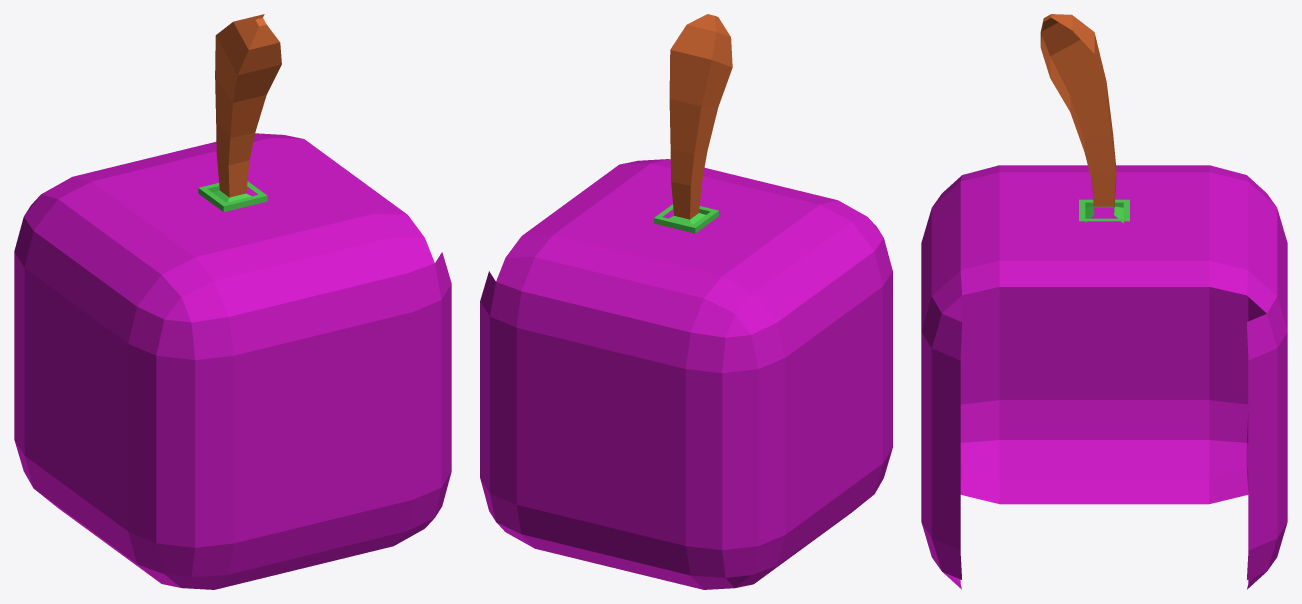
The model's file is finalgrapetrial2v1Decimated.fbx.
The picture shows the model from 3 angles, left to right: view 1: azimuth 30°, elevation 25°; view 2: azimuth 150°, elevation 25°; view 3: azimuth 270°, elevation 25°; orthographic projection. The views are drawn at different scales.
Parts seen in each view (by area): view 1: Cube; view 2: Cube; view 3: Cube.
Boxes of the visible parts, x1,y1,x2,y2 form: Cube: [14, 14, 451, 589]; Cube: [480, 14, 892, 589]; Cube: [921, 14, 1287, 589].
Bounding box in the file's own units: 194 × 321 × 200.
